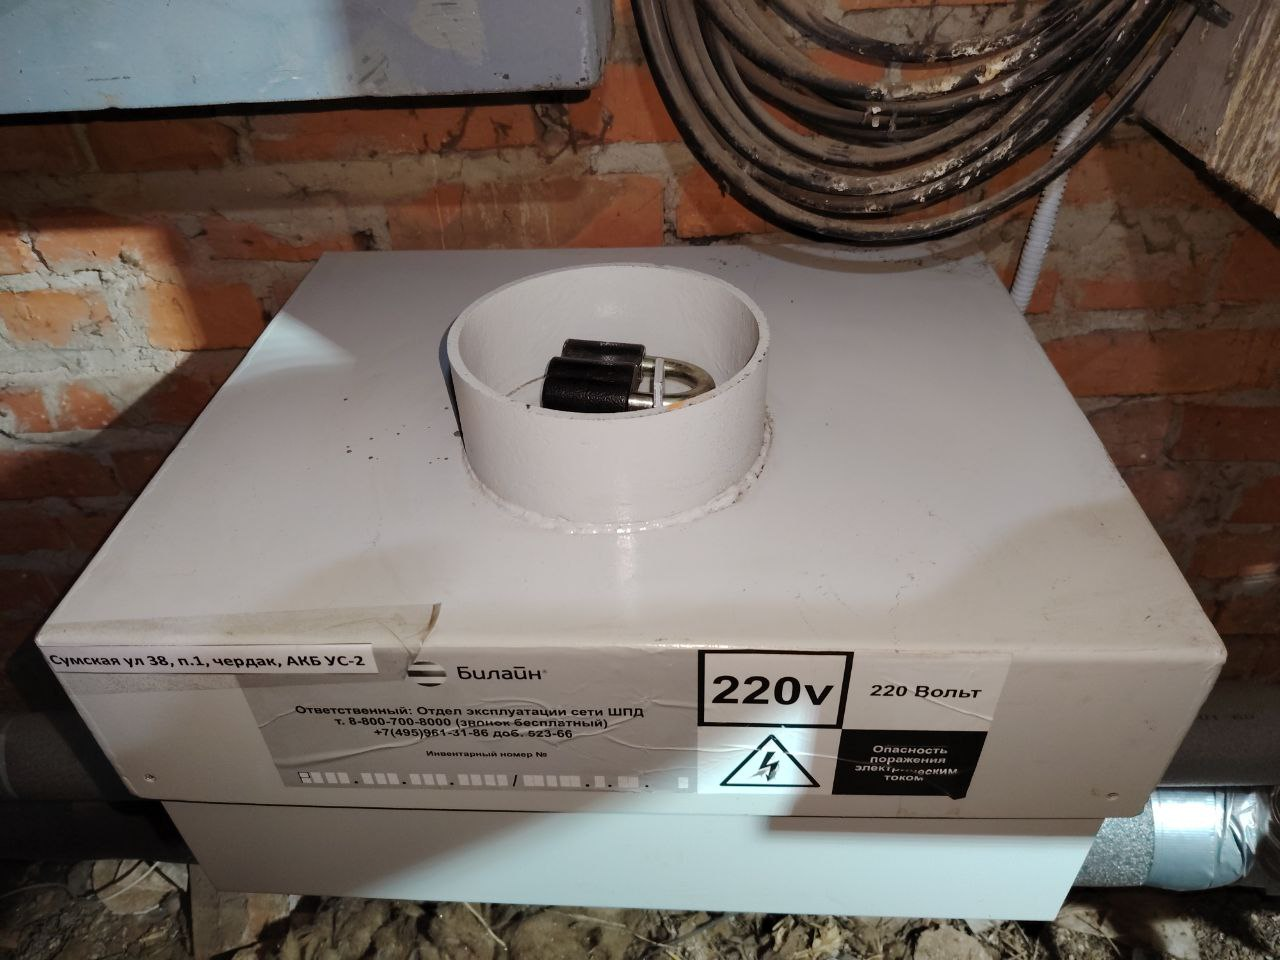shta-ps: (22, 232, 1240, 926)
